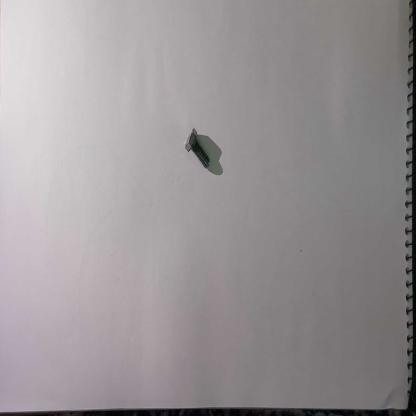Bolts: (184, 124, 214, 176)
